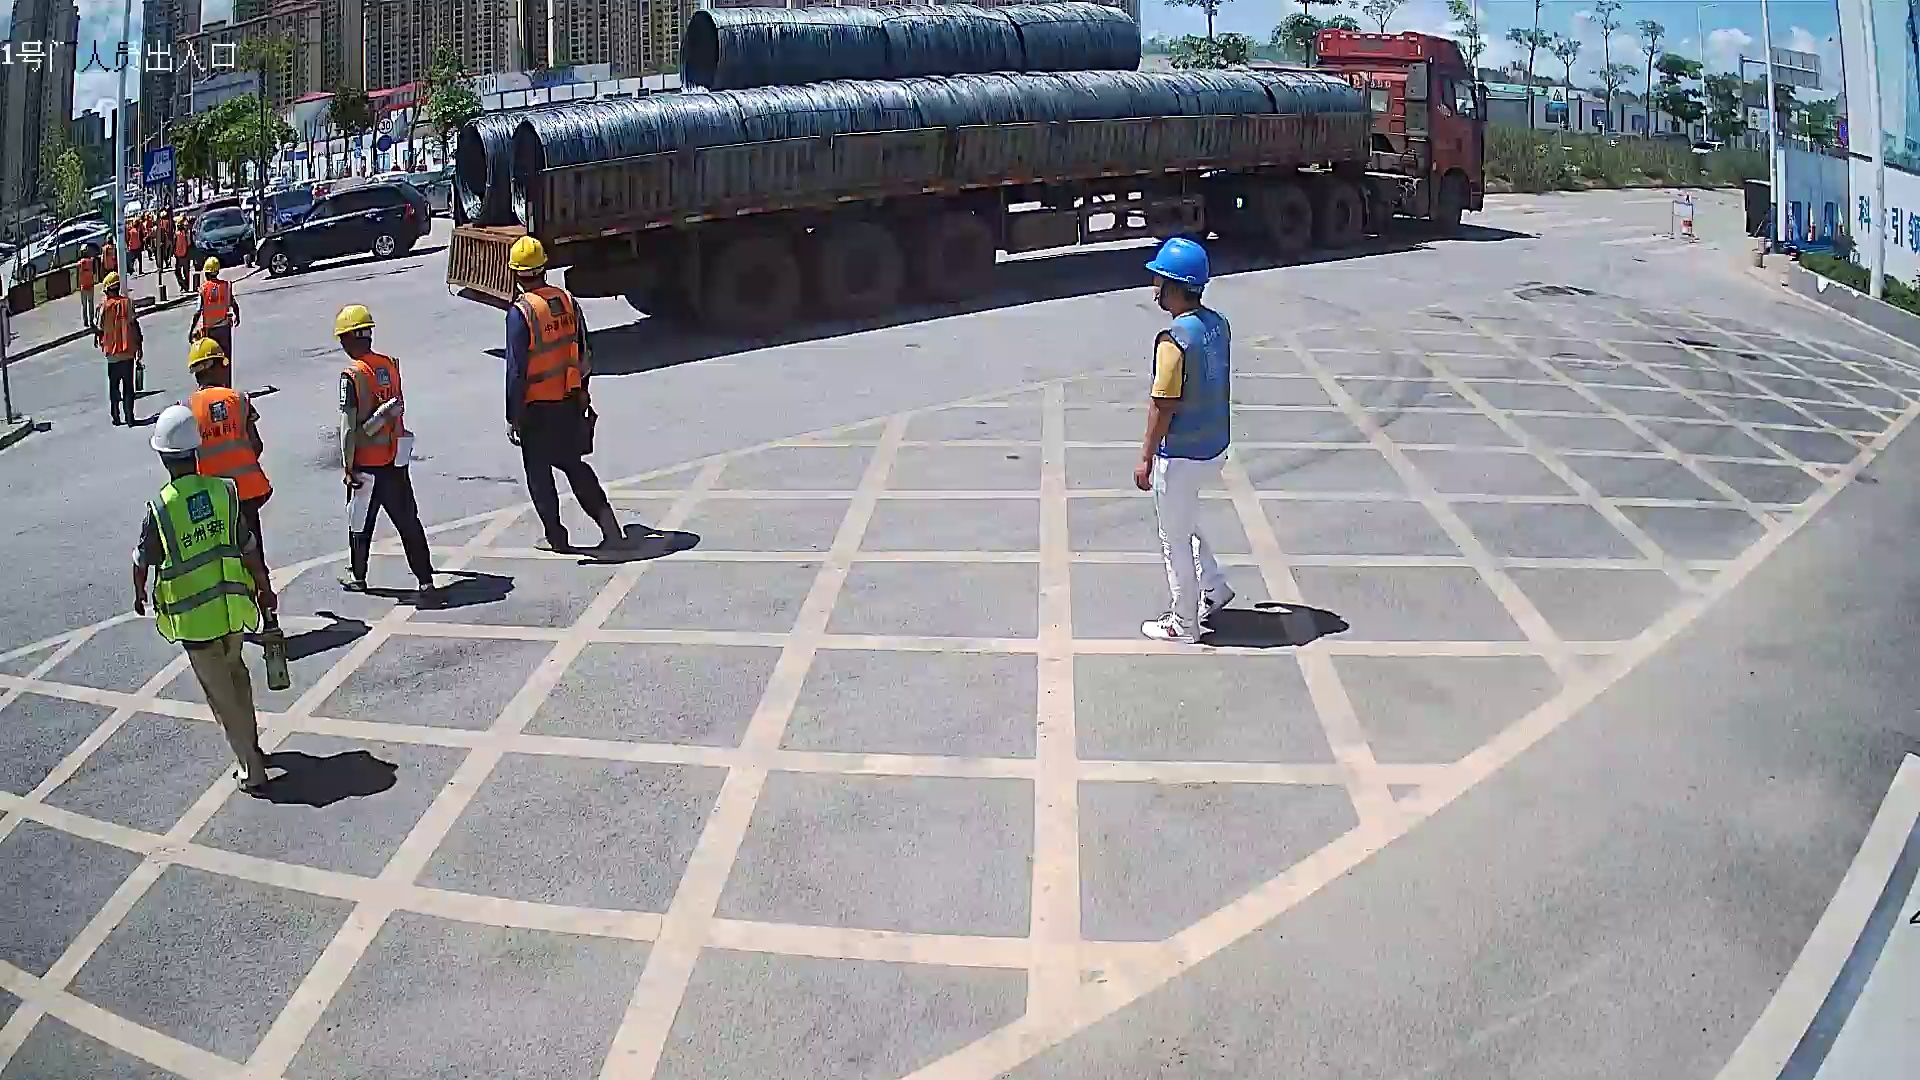person: (129, 401, 279, 798), (1131, 228, 1235, 645), (502, 232, 632, 555), (331, 298, 450, 607), (179, 332, 282, 630), (92, 270, 145, 429), (187, 253, 243, 390)
reflective_vest: (148, 474, 263, 649), (1153, 307, 1235, 464), (178, 384, 276, 503), (504, 285, 587, 405), (341, 350, 413, 466), (95, 295, 137, 355), (197, 279, 233, 329)
safety_helmet: (1144, 233, 1211, 313), (148, 401, 205, 475), (502, 233, 550, 290), (332, 299, 379, 357), (185, 333, 231, 386), (101, 270, 121, 297), (202, 254, 221, 280)
